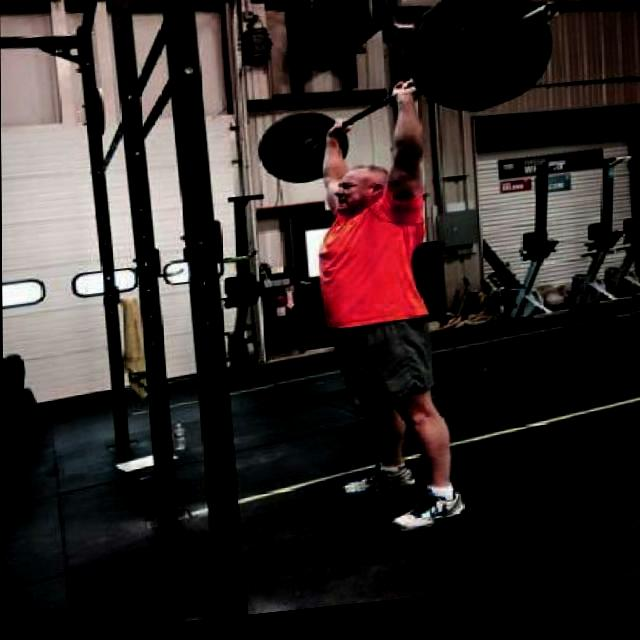barbell: (415, 1, 562, 126)
